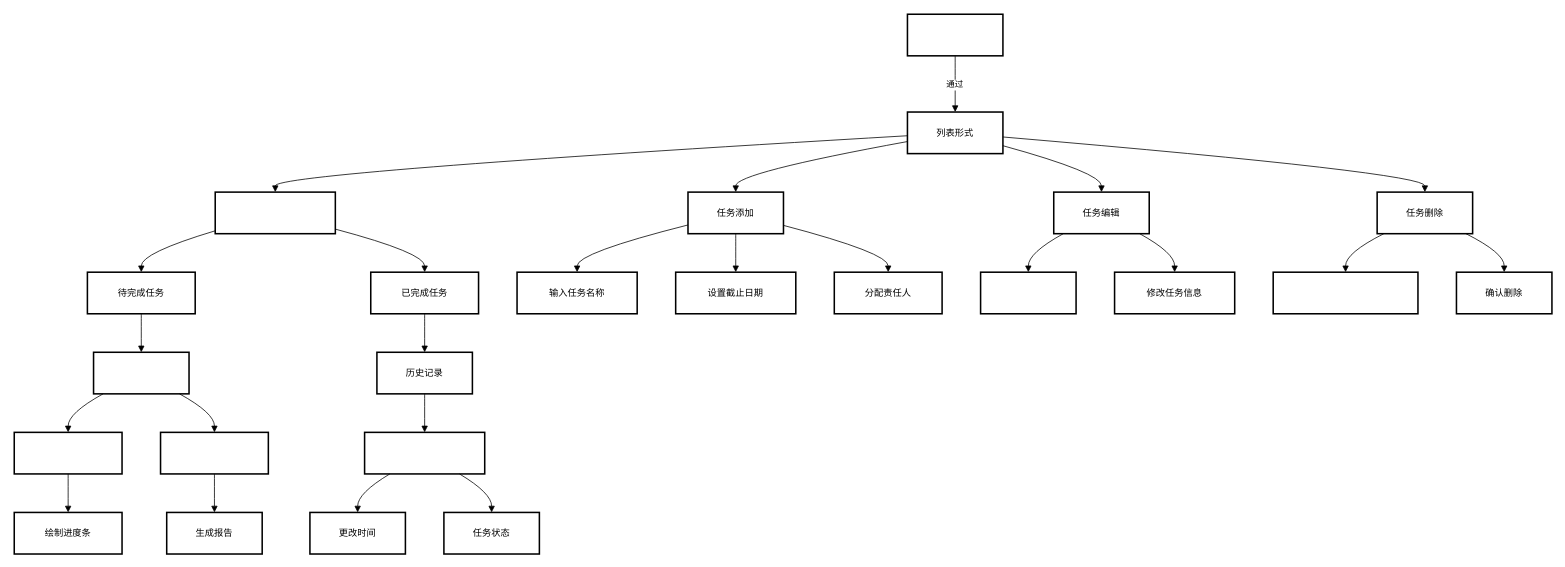
Some shapes in this 1565 by 567 pixel diagram are drawn without their labels. Each missing label, with the centre of its shape:
"任务完成标记" belongs at [275,212].
"任务管理" belongs at [954,34].
"任务统计" belongs at [140,372].
"已完成数量" belongs at [214,452].
"待完成数量" belongs at [67,452].
"查看历史变更" belongs at [424,452].
"选择任务" belongs at [1027,292].
"选择要删除的任务" belongs at [1345,292].
